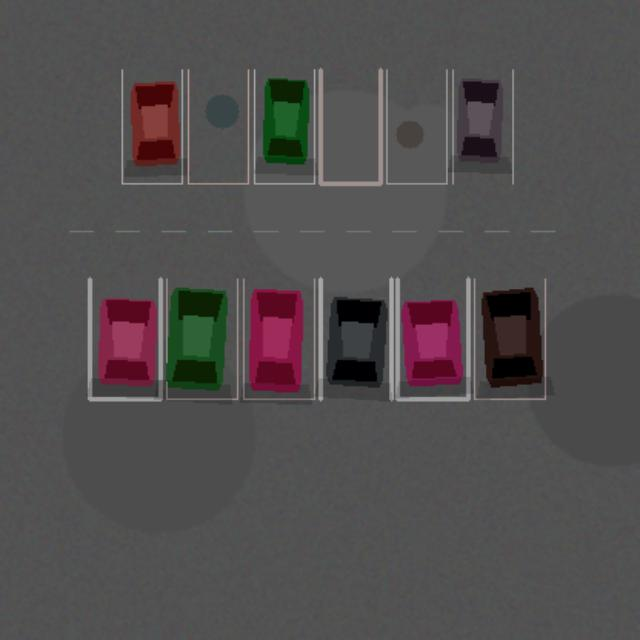space-empty: (188, 69, 248, 183), (320, 69, 380, 183), (386, 69, 446, 183)
space-occupied: (89, 278, 160, 398), (166, 278, 237, 398), (243, 278, 314, 398), (320, 278, 391, 398), (397, 278, 468, 398), (474, 278, 545, 398), (122, 69, 182, 183), (254, 69, 314, 183), (452, 69, 512, 183)
